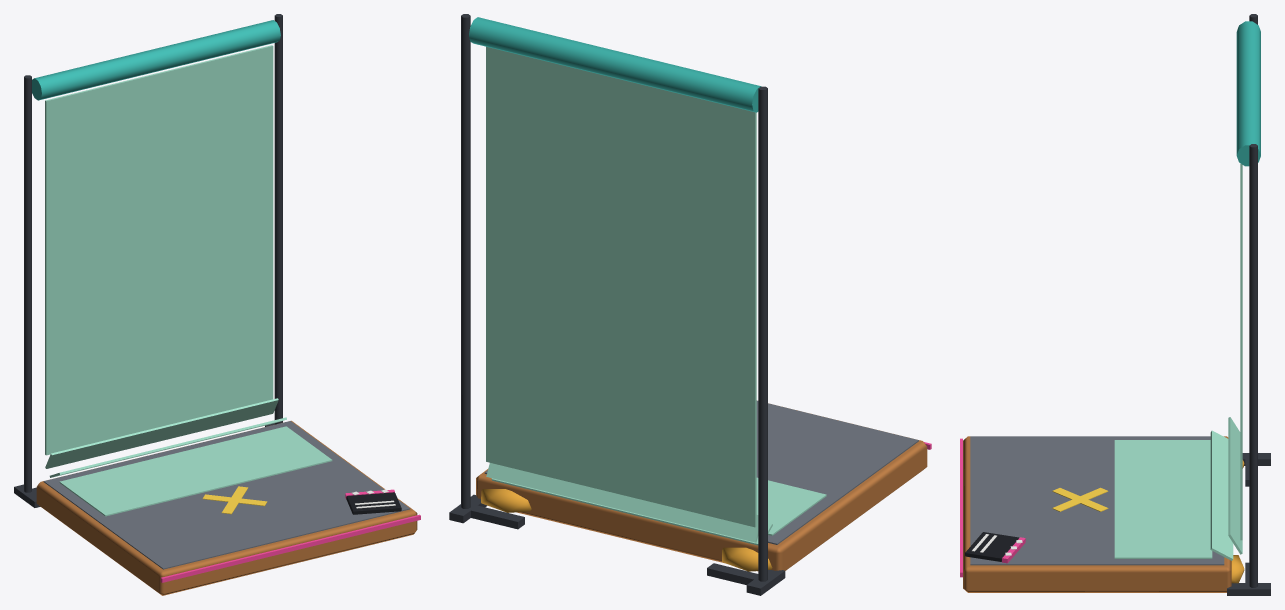
Rendered from station_buffer_basis.glb.
3 views of the same model, side by side, from view 1: azimuth 30°, elevation 25°; view 2: azimuth 150°, elevation 25°; view 3: azimuth 270°, elevation 25° (orthographic). The views are drawn at different scales.
Parts seen in each view (by area): view 1: station_buffer_basis; view 2: station_buffer_basis; view 3: station_buffer_basis.
Boxes of the visible parts, box(x1,y1,x2,y2) form: station_buffer_basis: box(14, 14, 420, 595); station_buffer_basis: box(449, 14, 931, 595); station_buffer_basis: box(960, 14, 1270, 595).
Bounding box in the file's own units: 1.32 × 2.02 × 1.27.
